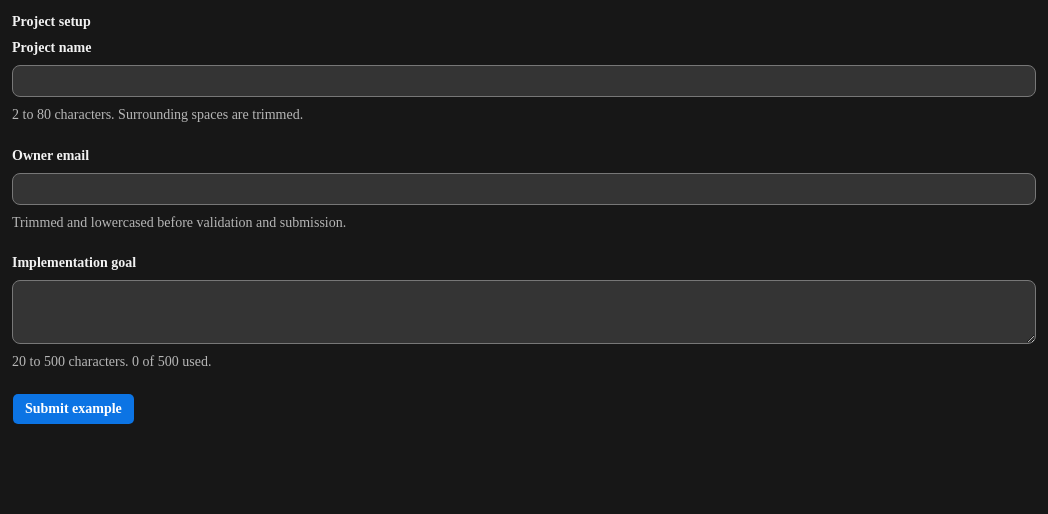
Test: ReferenceForm — client validation › focuses the first invalid control and marks it aria-invalid
In the field labelled "Project name": (524, 81) [12, 65, 1036, 97], type "A"
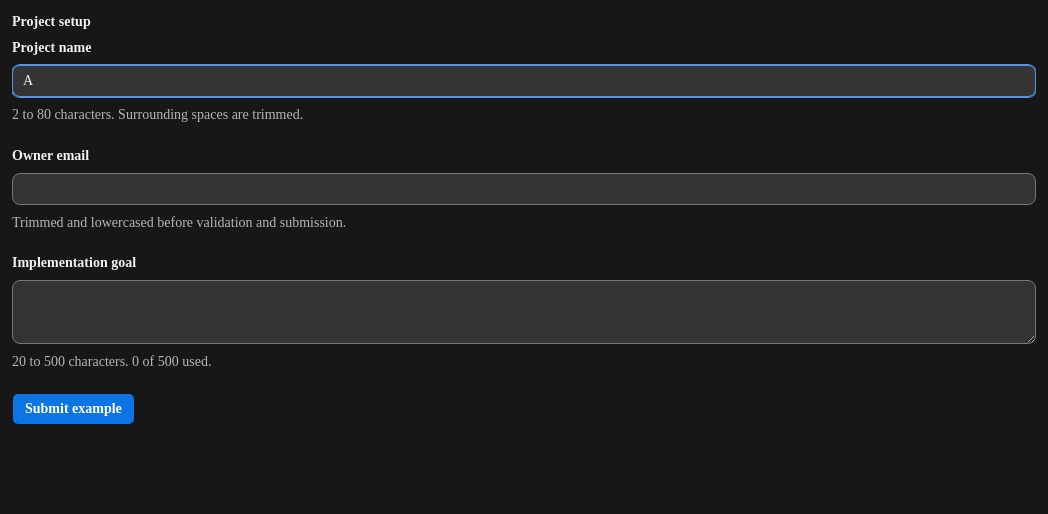
Click the button: (73, 409) [12, 393, 135, 425]
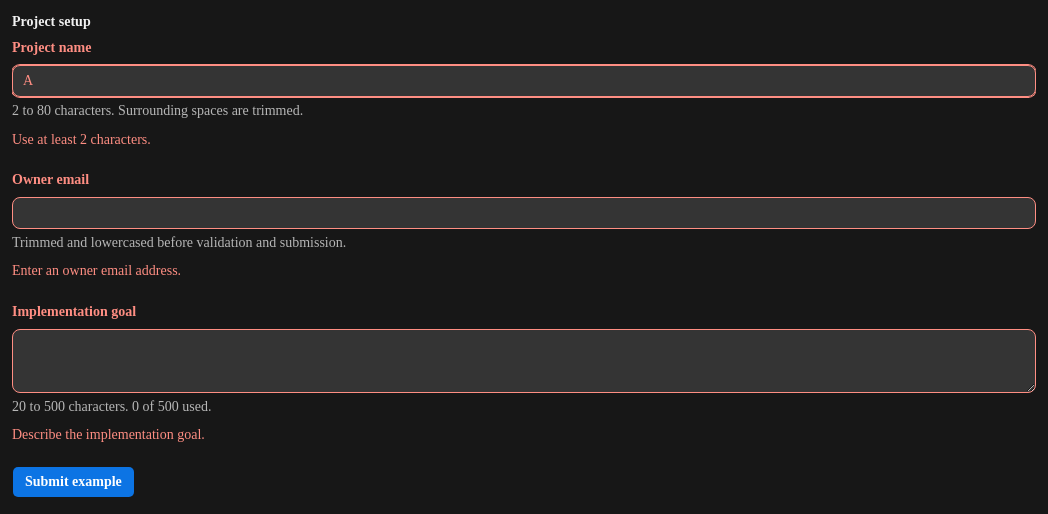
Expected: the text "Use at least 2 characters." is shown, [12, 132, 151, 146]
